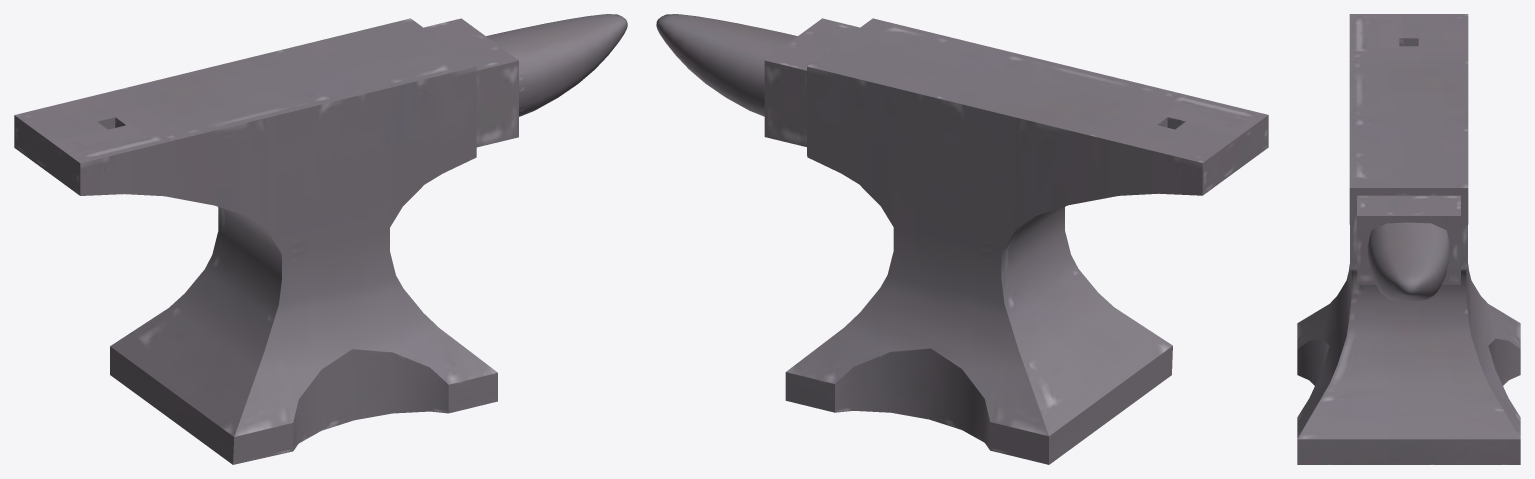
Rendered from Anvil.glb.
The picture shows the model from 3 angles, left to right: view 1: azimuth 30°, elevation 25°; view 2: azimuth 150°, elevation 25°; view 3: azimuth 270°, elevation 25°; orthographic projection. The views are drawn at different scales.
Visible parts, largest first — view 1: Anvil; view 2: Anvil; view 3: Anvil.
Boxes of the visible parts, left/top/right/bottom form: Anvil: left=14, top=14, right=627, bottom=464; Anvil: left=656, top=14, right=1268, bottom=464; Anvil: left=1297, top=14, right=1520, bottom=464.
Size of the model in its own units: 1.08 by 0.556 by 0.4015.
Materials: 1 (1 with a texture image).
